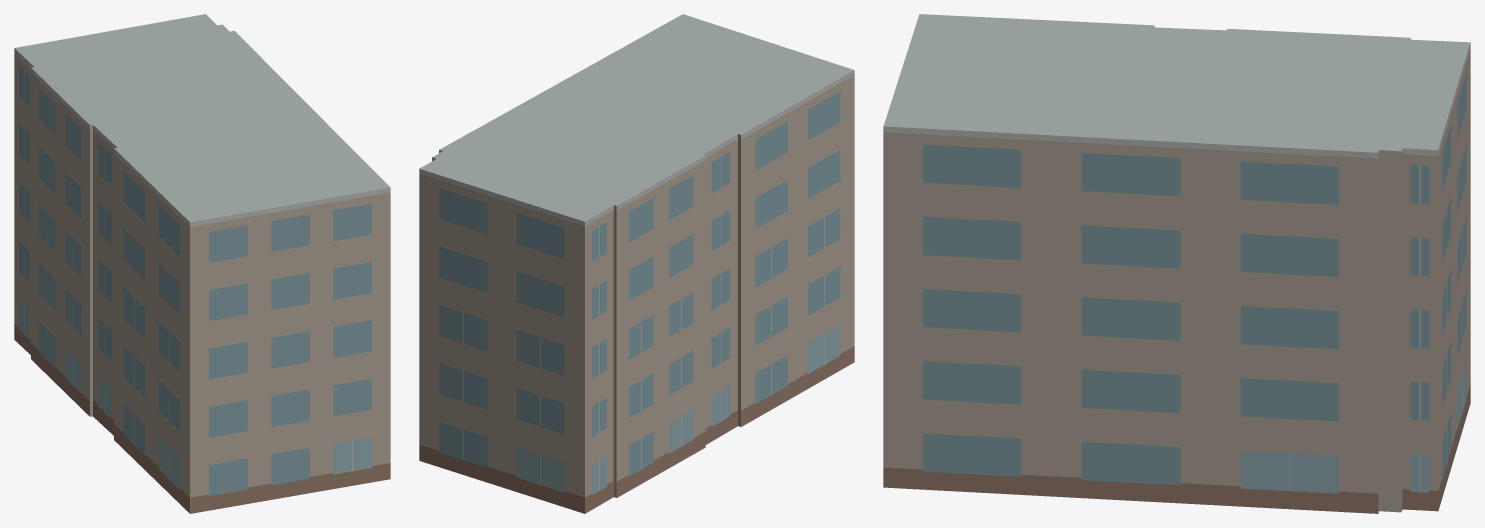
File: survey-upis-32910845.glb
3 views of the same model, side by side, from view 1: azimuth 30°, elevation 25°; view 2: azimuth 150°, elevation 25°; view 3: azimuth 270°, elevation 25° (orthographic). The views are drawn at different scales.
Visible parts, largest first — view 1: survey-upis-32910845.tmp; view 2: survey-upis-32910845.tmp; view 3: survey-upis-32910845.tmp.
Boxes of the visible parts, x1,y1,x2,y2 form: survey-upis-32910845.tmp: [14, 14, 390, 513]; survey-upis-32910845.tmp: [419, 14, 854, 513]; survey-upis-32910845.tmp: [883, 14, 1470, 513].
Size of the model in its own units: 12.37 by 15 by 22.11.
